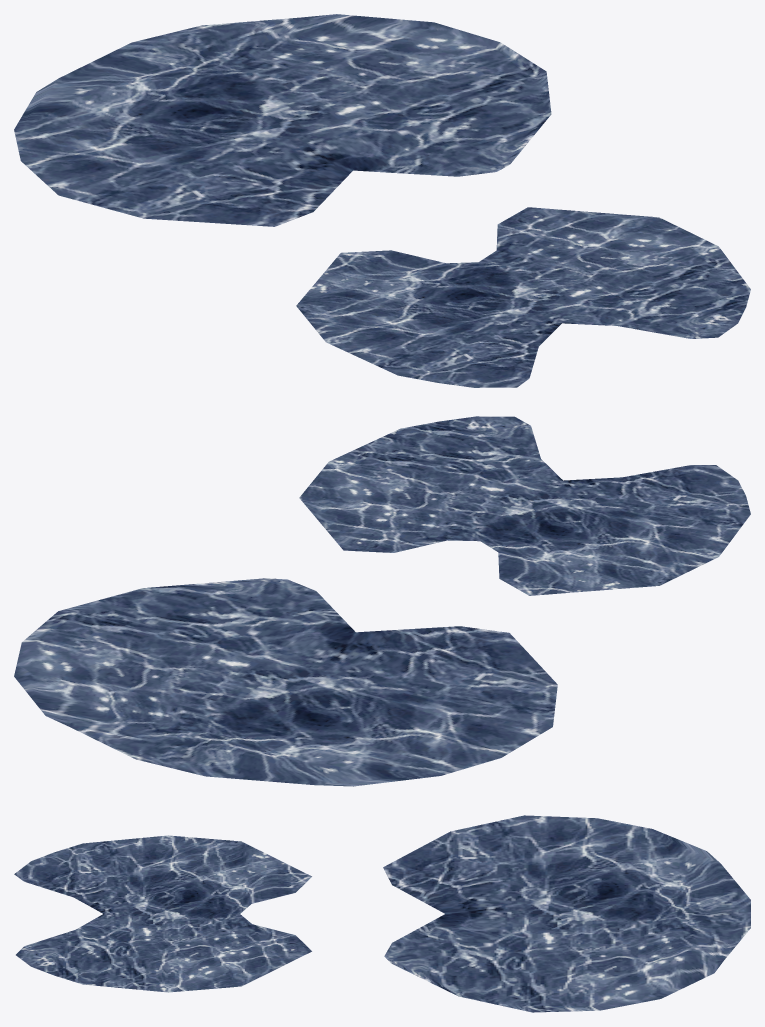
File: guangzhu.FBX
3 views of the same model, one above another, from view 1: azimuth 30°, elevation 25°; view 2: azimuth 150°, elevation 25°; view 3: azimuth 270°, elevation 25° (orthographic). The views are drawn at different scales.
Visible parts, largest first — view 1: Plane004, Plane003; view 2: Plane004, Plane003; view 3: Plane004, Plane003.
Part boxes in pixels (box(x1,y1,x2,y2)): Plane004: box(14, 14, 551, 226); Plane003: box(296, 207, 750, 387); Plane004: box(14, 578, 557, 786); Plane003: box(299, 416, 750, 595); Plane004: box(383, 815, 750, 1012); Plane003: box(14, 835, 311, 992).
Bounding box in the file's own units: 0.4923 × 2.38e-17 × 0.7779.
